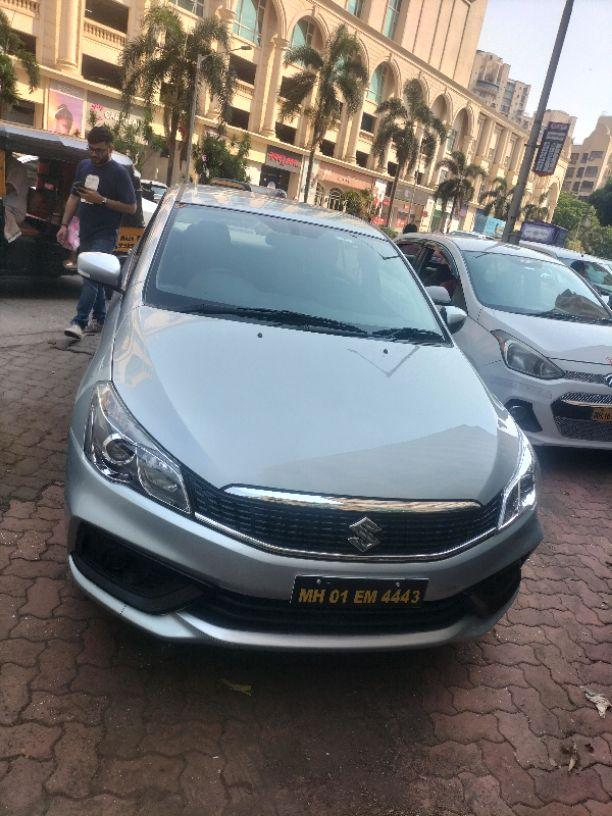license_plate: (289, 574, 429, 610), (590, 405, 611, 422)
